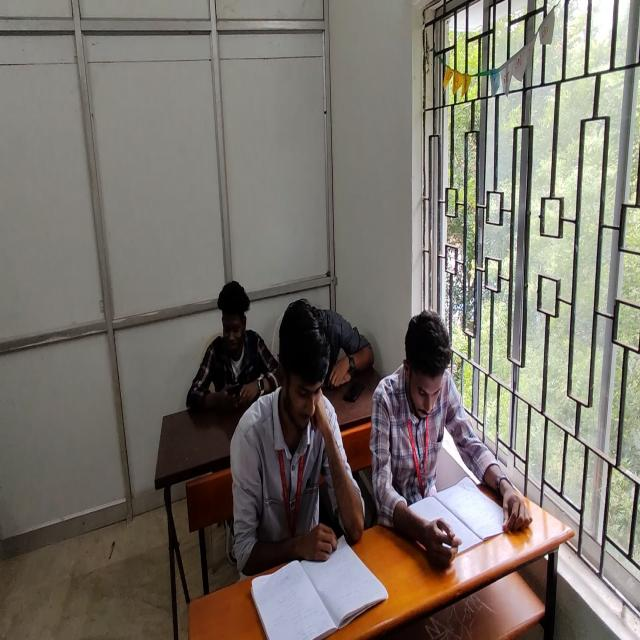reading: (229, 298, 364, 586), (378, 313, 518, 565)
sleeping: (289, 304, 373, 392)
using_mobile: (185, 280, 278, 413)
